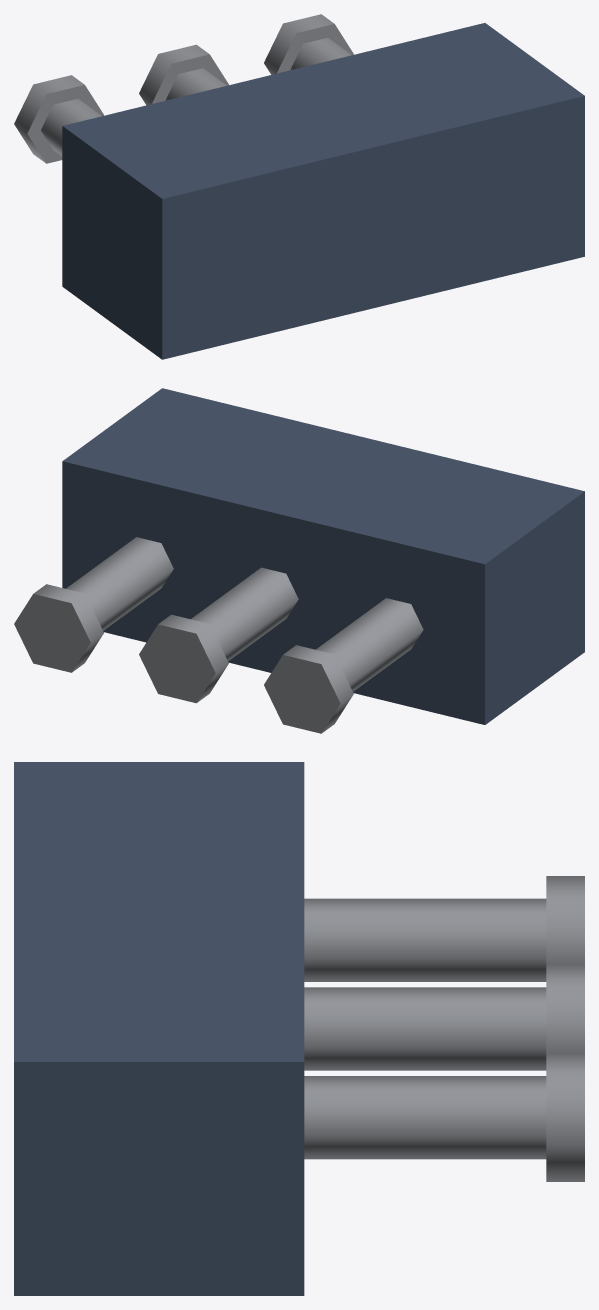
Rendered from kc1000_ports.obj.
3 views of the same model, one above another, from view 1: azimuth 30°, elevation 25°; view 2: azimuth 150°, elevation 25°; view 3: azimuth 270°, elevation 25° (orthographic). The views are drawn at different scales.
Parts seen in each view (by area): view 1: kc1000_ports; view 2: kc1000_ports; view 3: kc1000_ports.
Boxes of the visible parts, x1=… form: kc1000_ports: x1=14, y1=14, x2=584, y2=359; kc1000_ports: x1=14, y1=388, x2=584, y2=733; kc1000_ports: x1=14, y1=762, x2=584, y2=1295.
Size of the model in its own units: 2.2 by 0.8 by 1.77.
